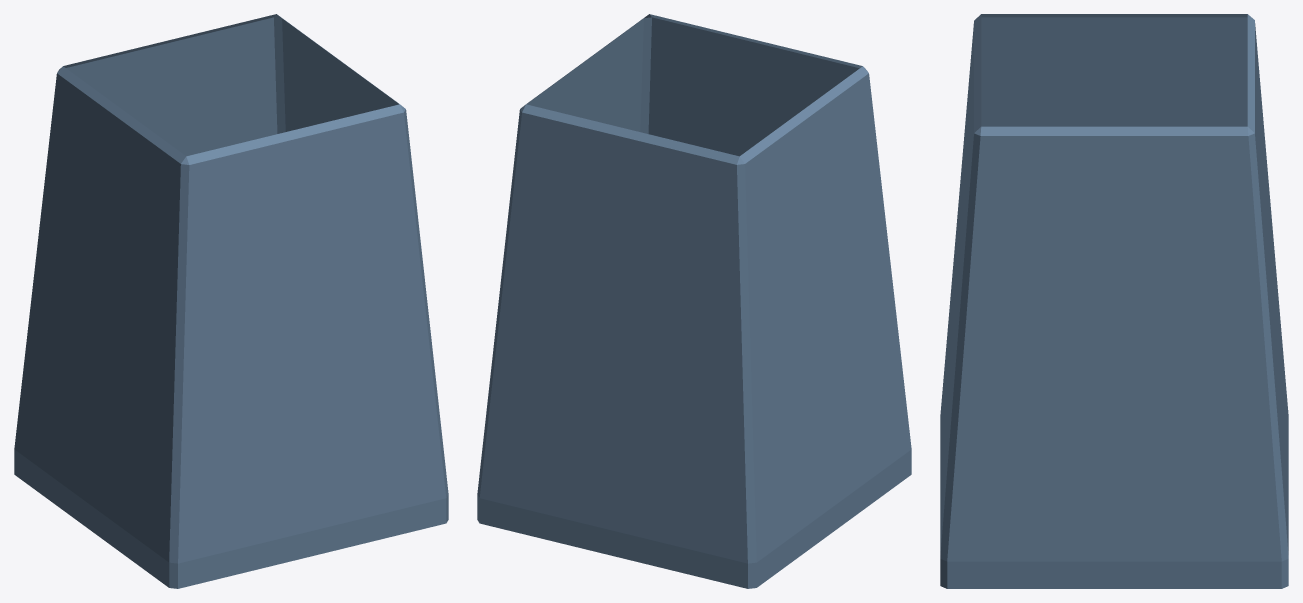
Rendered from Tornado_SquareAdjusted.fbx.
3 views of the same model, side by side, from view 1: azimuth 30°, elevation 25°; view 2: azimuth 150°, elevation 25°; view 3: azimuth 270°, elevation 25° (orthographic). The views are drawn at different scales.
Visible parts, largest first — view 1: Tornado_Mesh_SquareAdjusted; view 2: Tornado_Mesh_SquareAdjusted; view 3: Tornado_Mesh_SquareAdjusted.
Part boxes in pixels (x1,y1,x2,y2): Tornado_Mesh_SquareAdjusted: (14, 14, 448, 588); Tornado_Mesh_SquareAdjusted: (477, 14, 911, 588); Tornado_Mesh_SquareAdjusted: (940, 14, 1288, 588).
Size of the model in its own units: 1.33 by 1.87 by 1.33.
